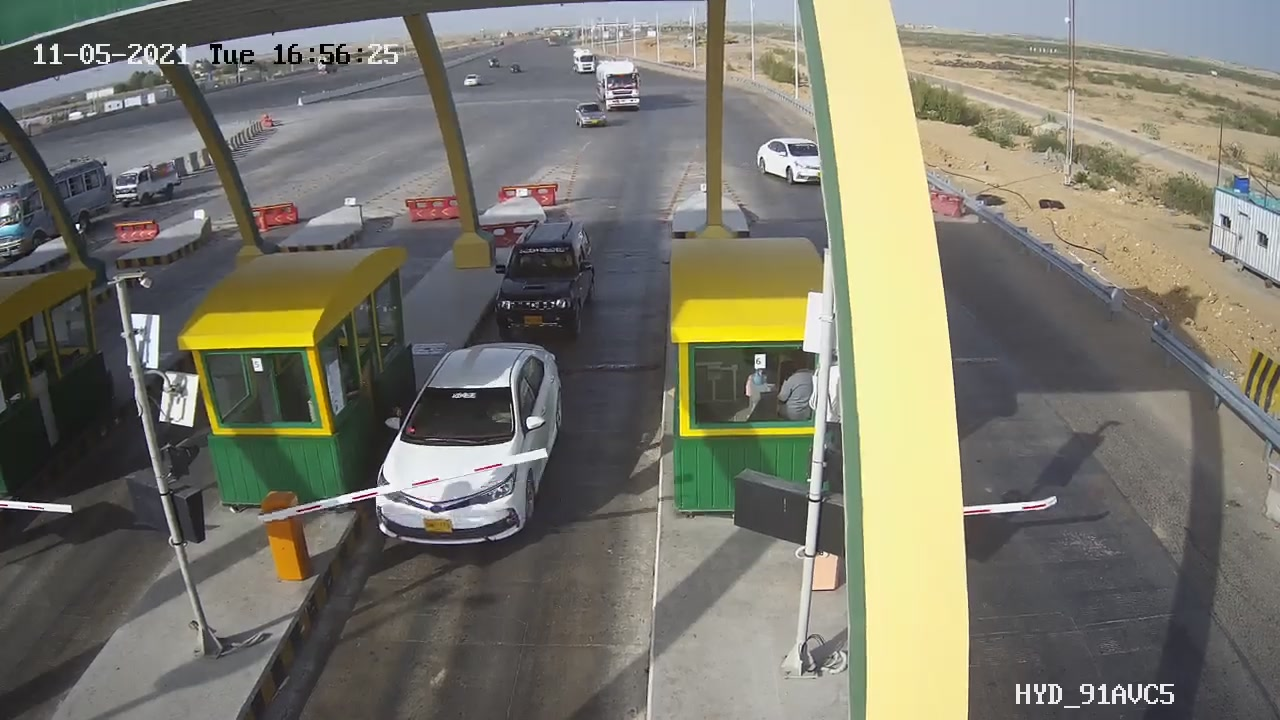F1: (359, 327, 587, 562), (479, 206, 612, 349)
